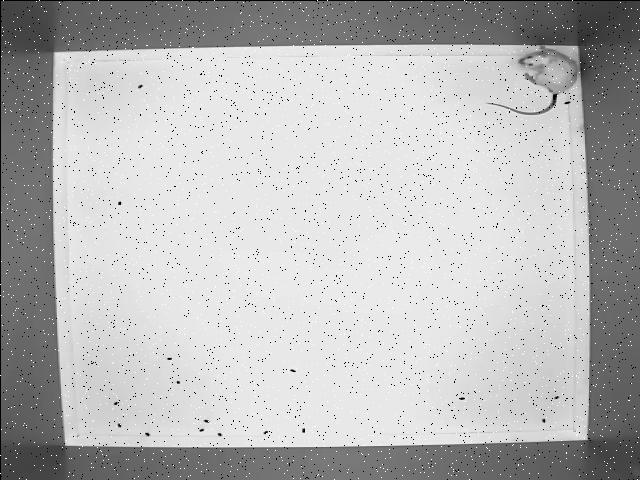Tikus: (482, 48, 578, 118)
